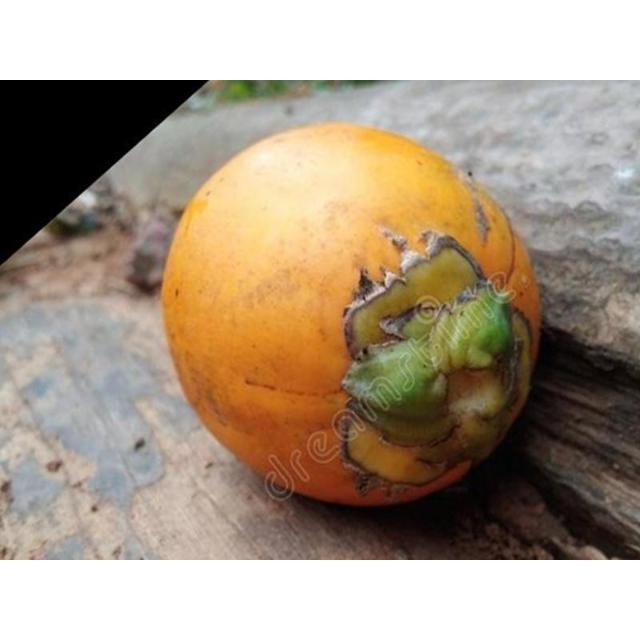good: (159, 122, 544, 510)
